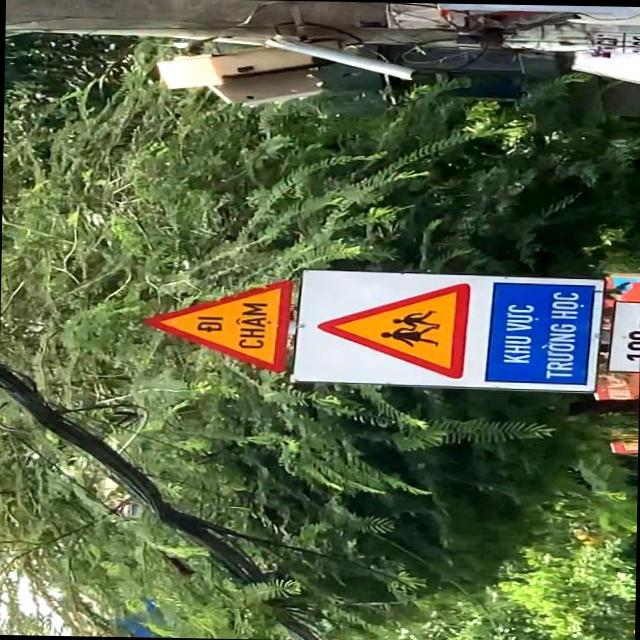W-225: (313, 280, 471, 375)
W-245a: (143, 276, 295, 372)
